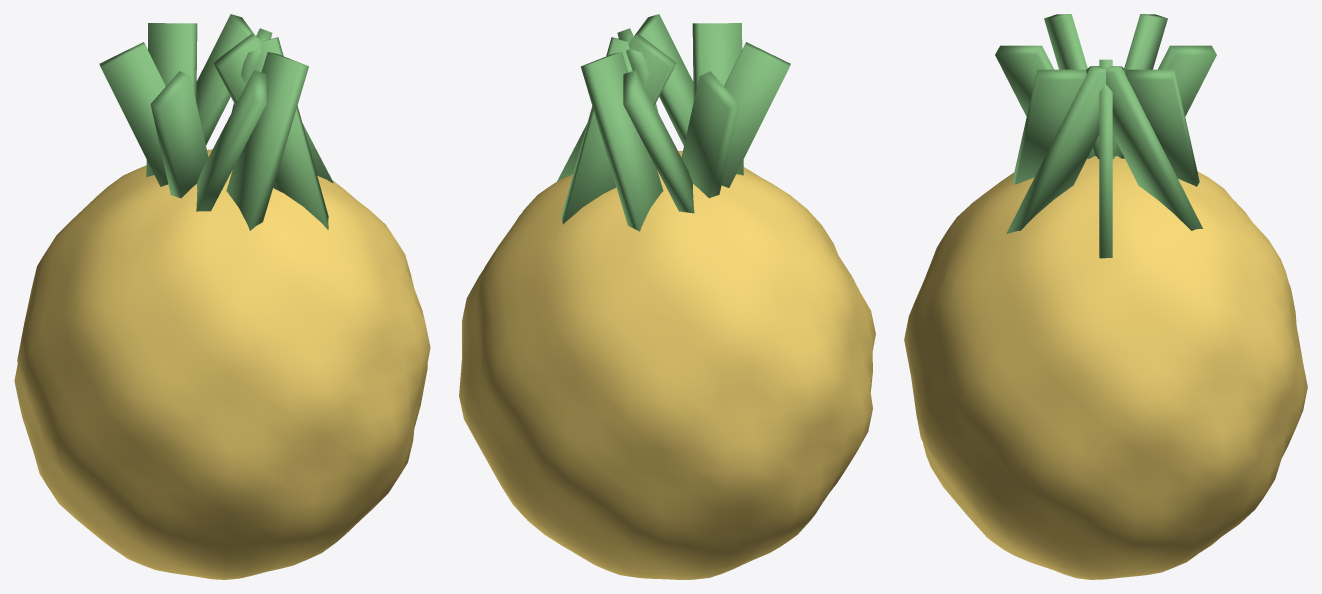
The model's file is Pineapple.glb.
3 renders of one model, left to right at view 1: azimuth 30°, elevation 25°; view 2: azimuth 150°, elevation 25°; view 3: azimuth 270°, elevation 25°, orthographic.
Visible parts, largest first — view 1: Pineapple; view 2: Pineapple; view 3: Pineapple.
Boxes of the visible parts, x1,y1,x2,y2 form: Pineapple: (14,14,430,579); Pineapple: (459,14,875,579); Pineapple: (904,14,1307,579).
Size of the model in its own units: 0.9269 by 1.27 by 0.8945.
